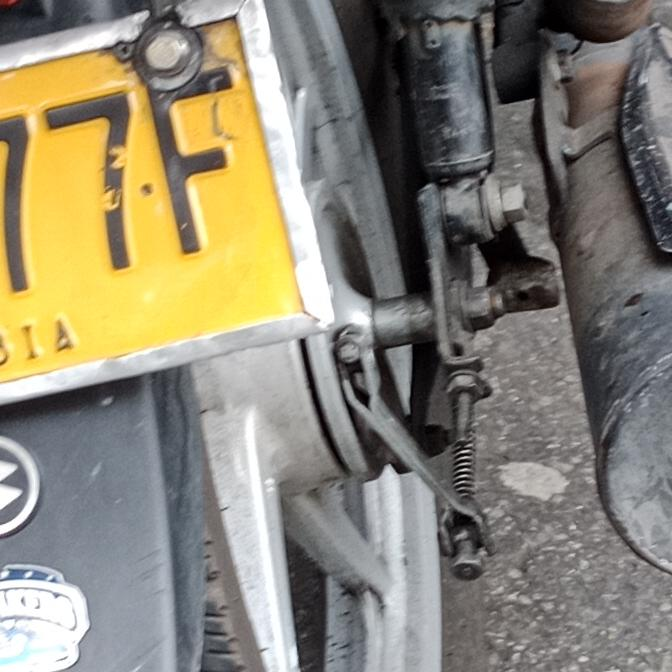plates: (0, 0, 348, 407)
